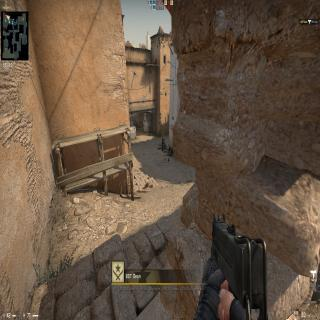CT-Head: (162, 136, 164, 140), (162, 135, 164, 137)
